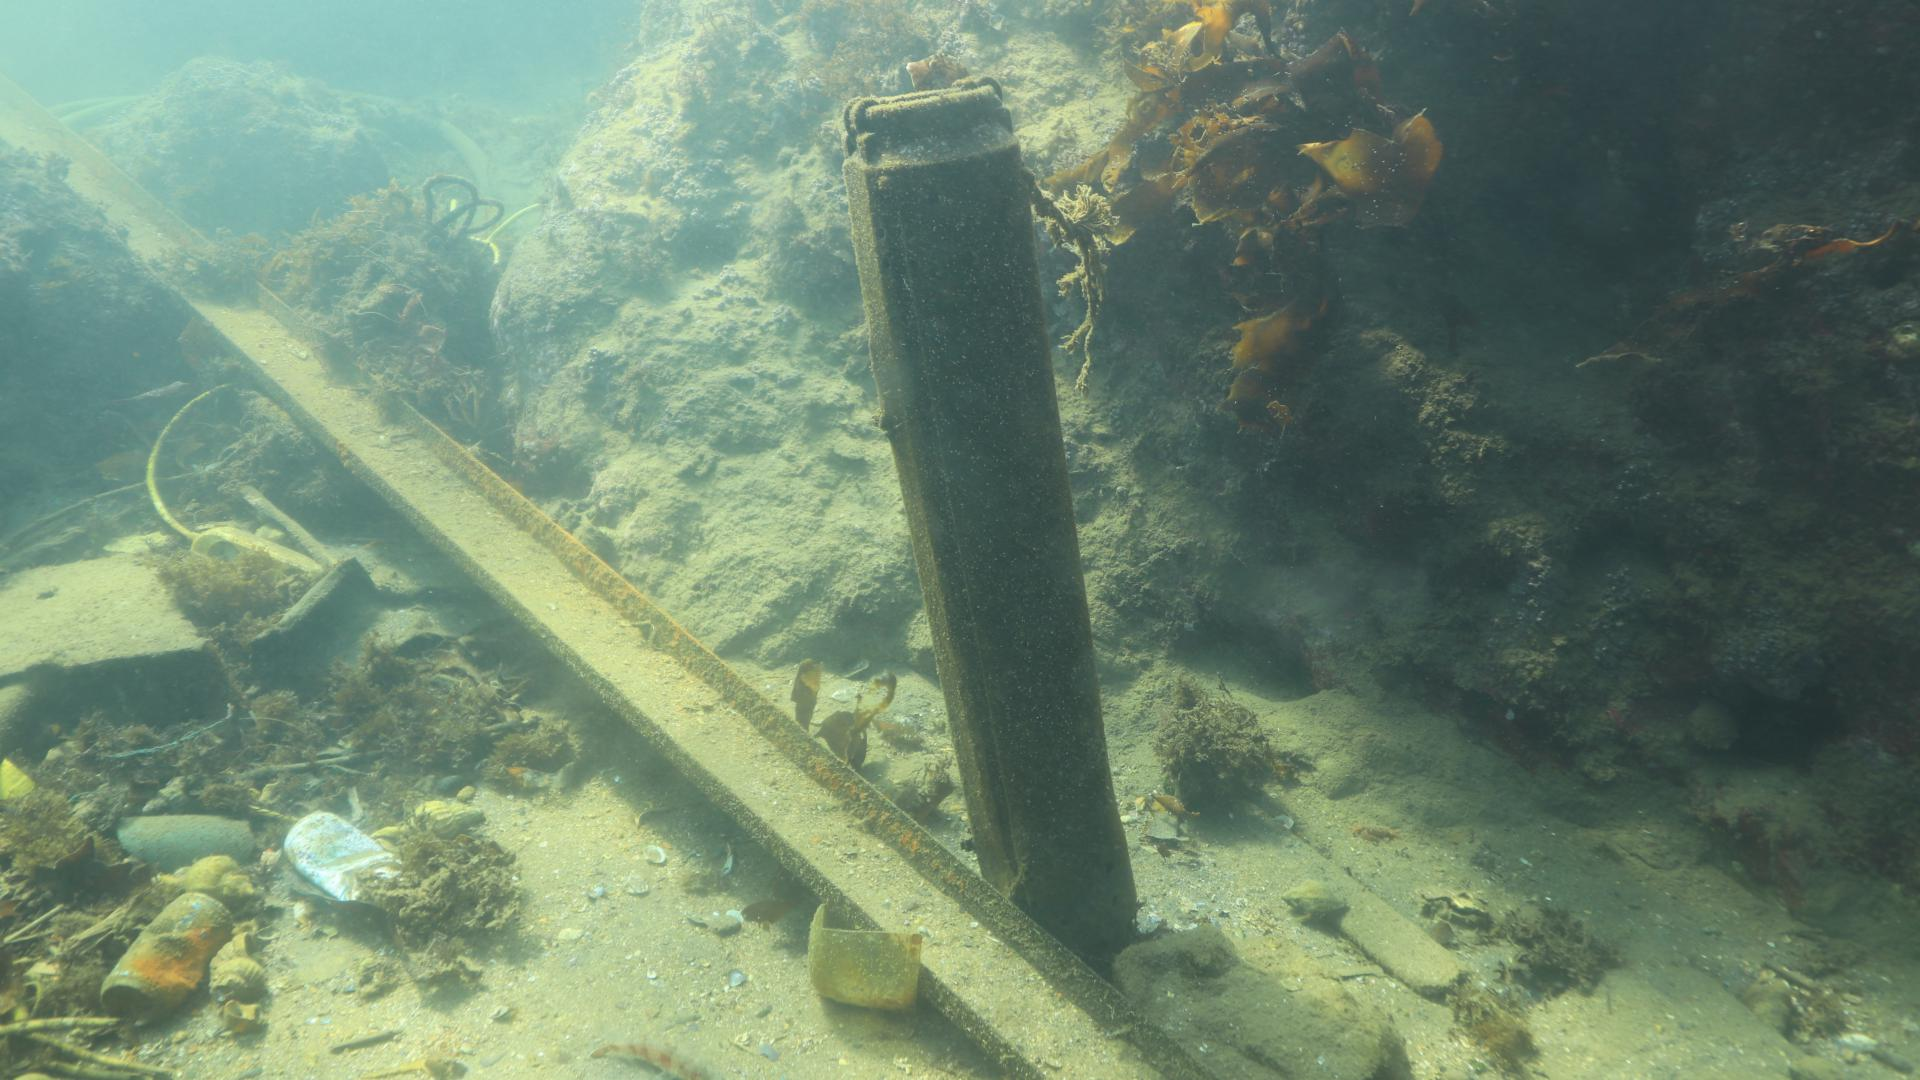eel fish trap: (837, 82, 1141, 961)
